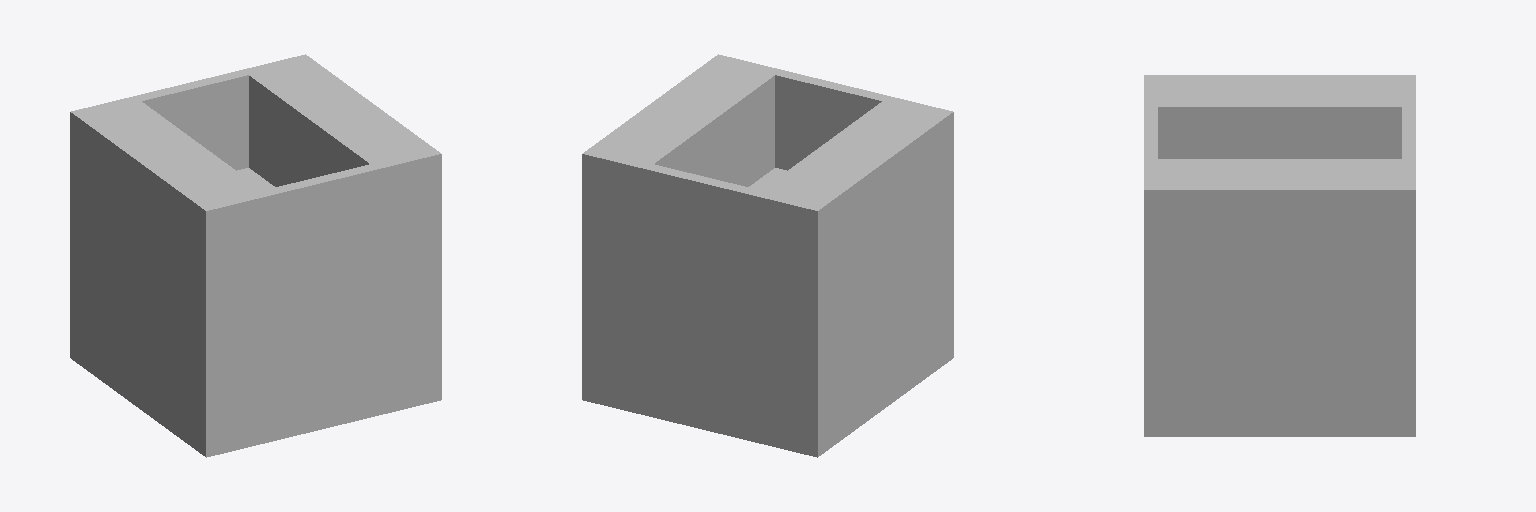
Rendered from Line_cube_bottle_preprocessed.obj.
3 views of the same model, side by side, from view 1: azimuth 30°, elevation 25°; view 2: azimuth 150°, elevation 25°; view 3: azimuth 270°, elevation 25° (orthographic).
Size of the model in its own units: 0.08 by 0.08 by 0.08.